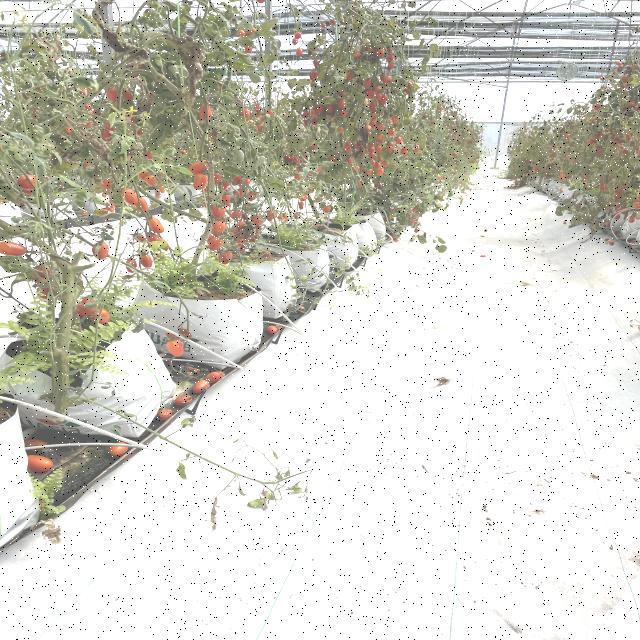Soilbag: (132, 274, 266, 366)
plant: (109, 6, 264, 299)
